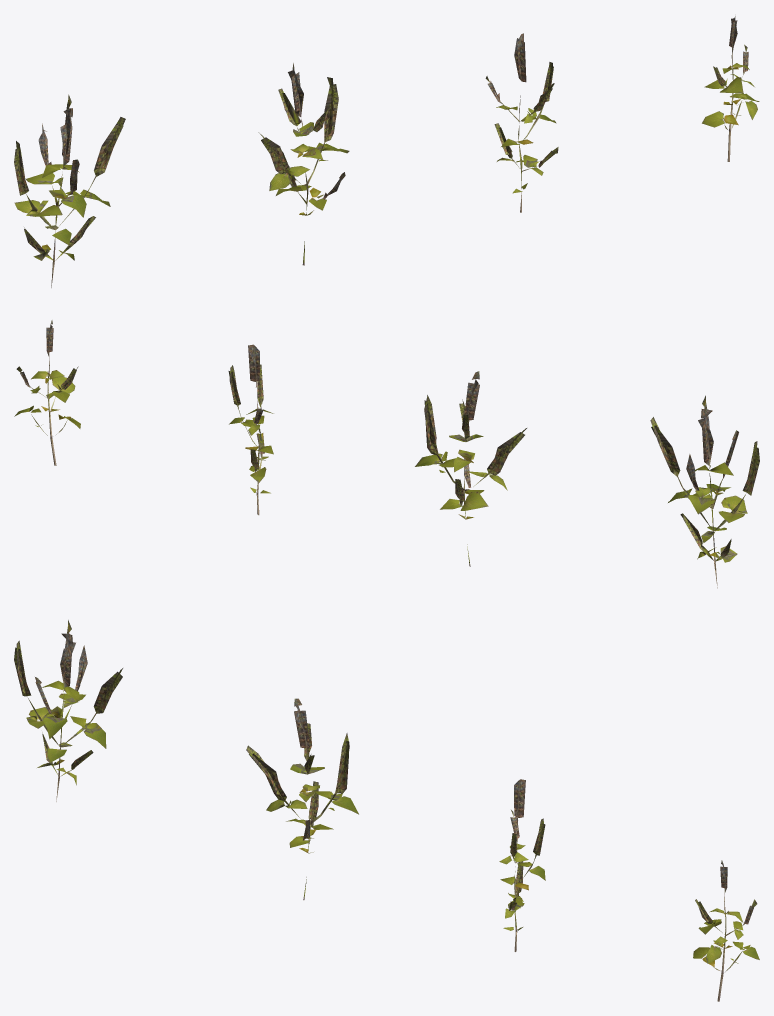
File: shrub_03.glb
3 renders of one model, top to bottom at view 1: azimuth 30°, elevation 25°; view 2: azimuth 150°, elevation 25°; view 3: azimuth 330°, elevation 25°, orthographic. The views are drawn at different scales.
Parts seen in each view (by area): view 1: shrub_03_a, shrub_03_b, shrub_03_c, shrub_03_d; view 2: shrub_03_a, shrub_03_b, shrub_03_c, shrub_03_d; view 3: shrub_03_a, shrub_03_b, shrub_03_c, shrub_03_d.
Boxes of the visible parts, x1,y1,x2,y2 form: shrub_03_a: (14,94,125,287); shrub_03_b: (258,63,349,265); shrub_03_c: (485,33,558,212); shrub_03_d: (702,16,759,161); shrub_03_a: (650,395,759,588); shrub_03_b: (415,371,526,566); shrub_03_c: (228,344,273,515); shrub_03_d: (14,320,80,465); shrub_03_a: (14,620,122,801); shrub_03_b: (246,698,358,900); shrub_03_c: (499,779,545,951); shrub_03_d: (693,860,759,1001).
Bounding box in the file's own units: 1.37 × 0.4019 × 0.1497.
Materials: 1 (1 with a texture image).
